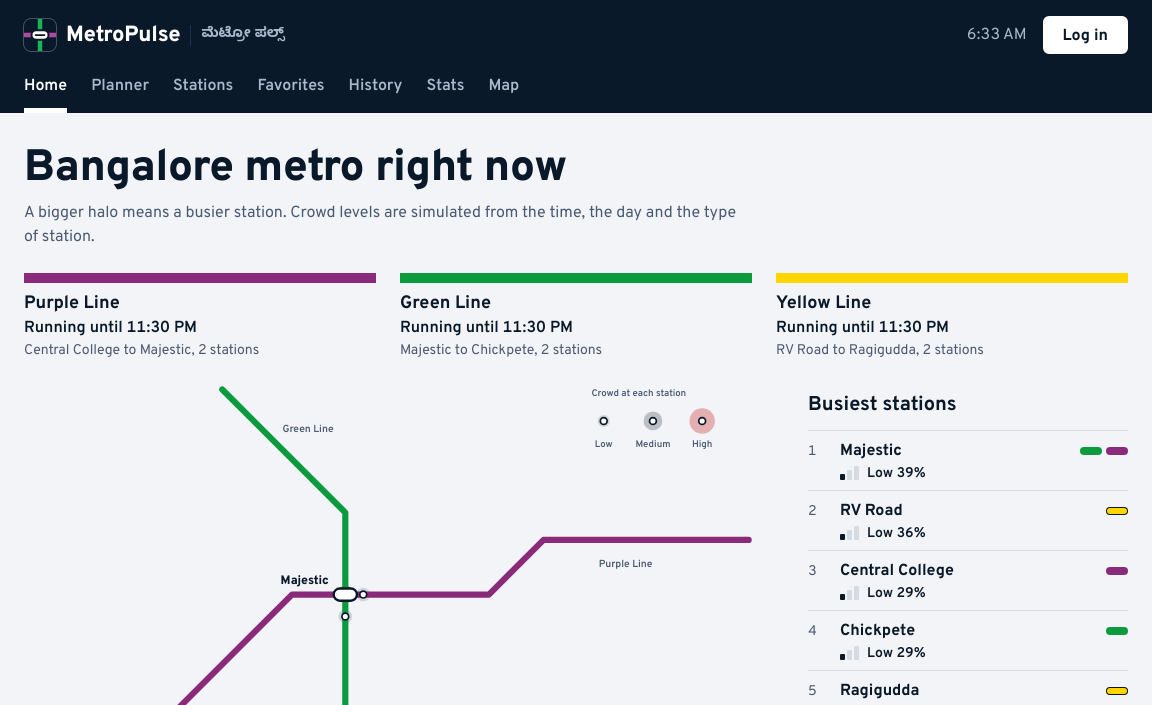
Scenario: the planner finds a route and shows the change
expect the heading "Bangalore metro right now" is shown: met, box 24,141 -> 567,197
Click the link "Planner" at (120, 86), box 91,76 -> 149,96
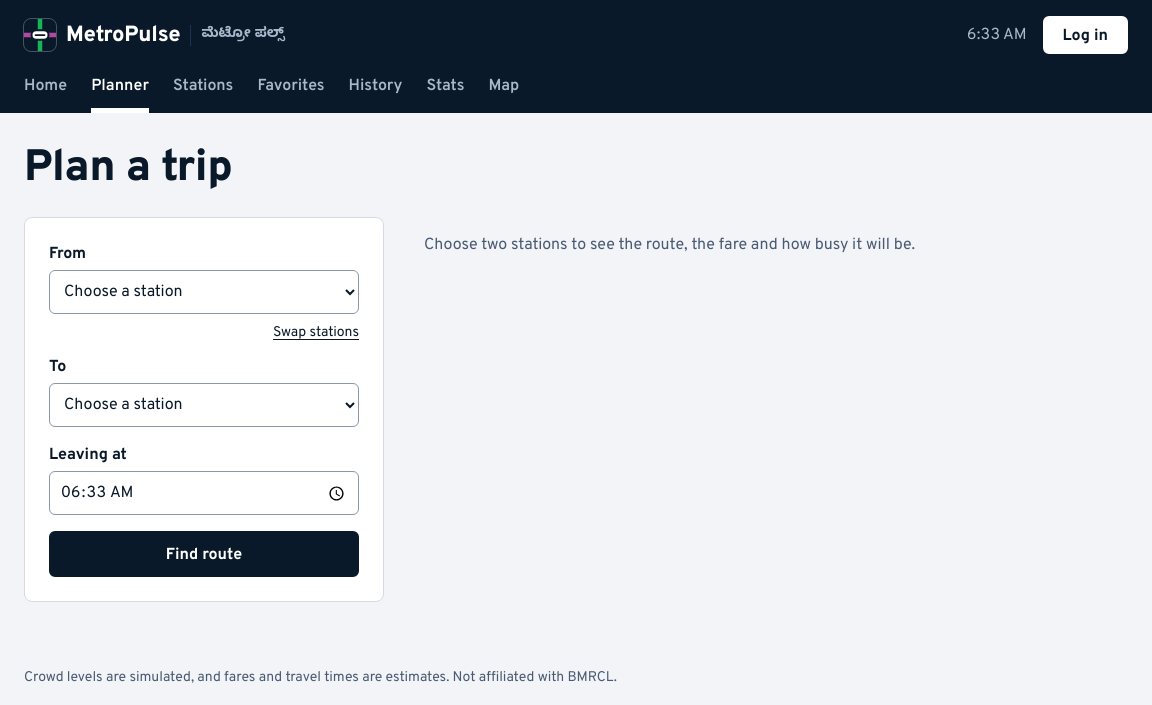
expect the heading "Plan a trip" is shown: met, box 24,141 -> 232,197
Select "Central College" in the dropdown labelled "From" at (204, 292), box 49,270 -> 359,314
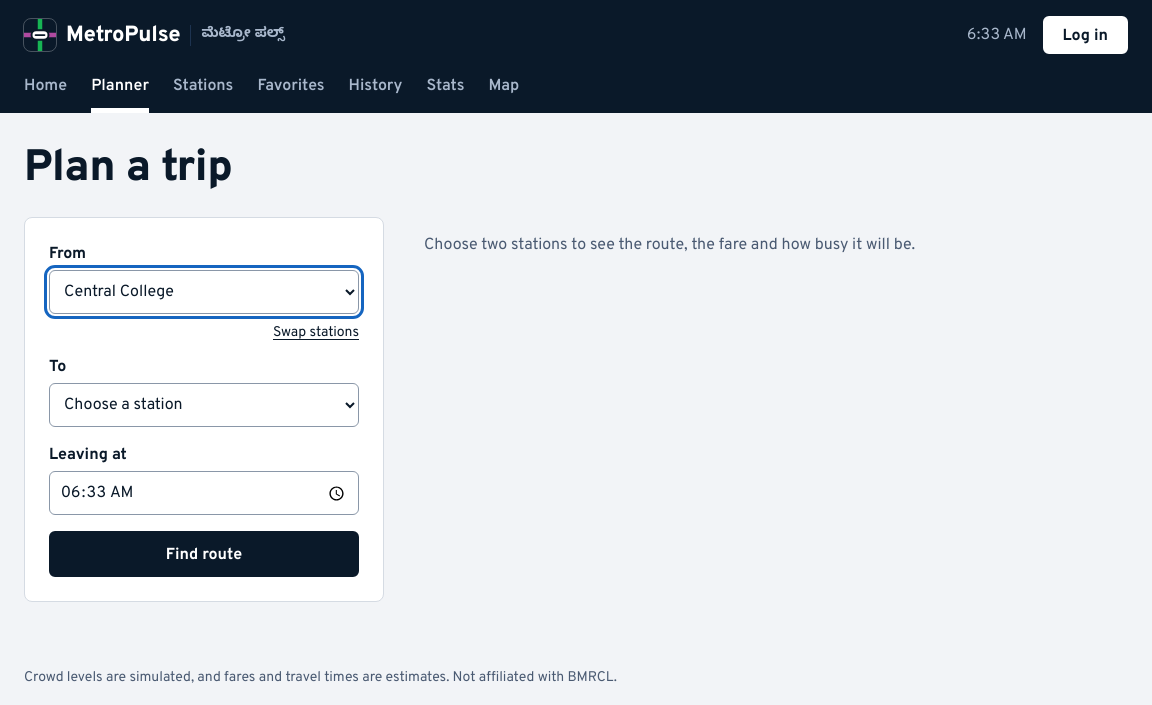
Select "Chickpete" in the dropdown labelled "To" at (204, 405), box 49,383 -> 359,427
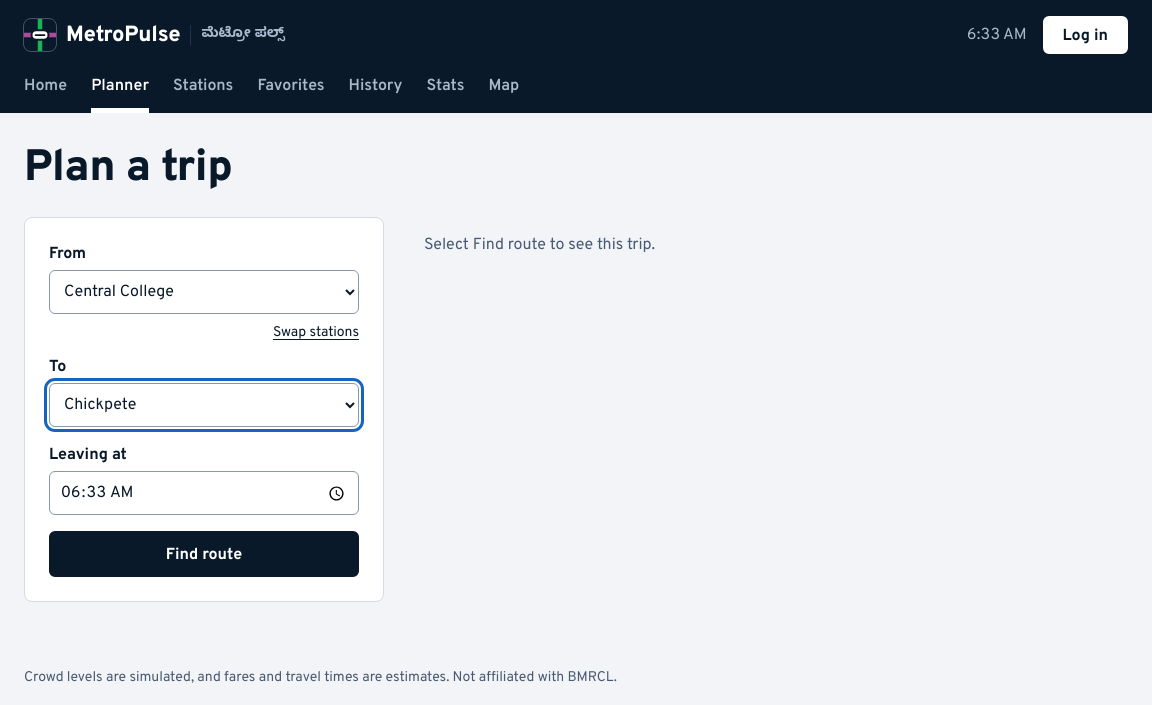
Click the button "Find route" at (204, 554), box 49,531 -> 359,577
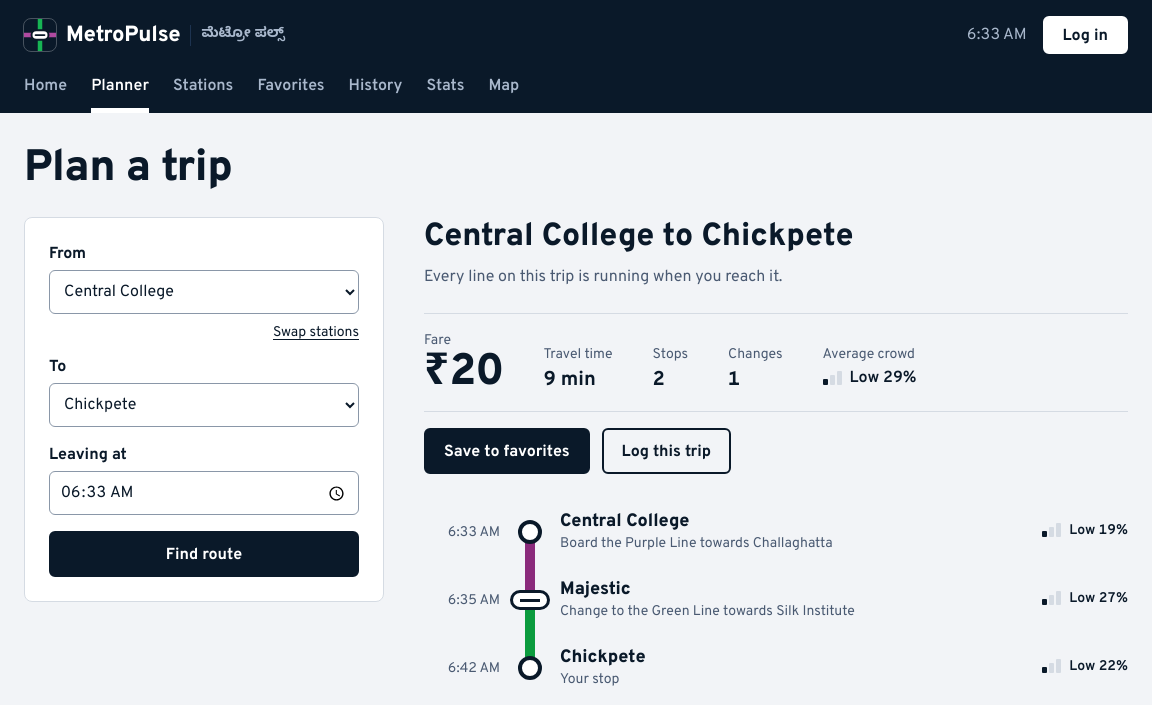
expect the heading "Central College to Chickpete" is shown: met, box 424,217 -> 854,257
expect the text "₹20" is shown: met, box 424,351 -> 503,395
expect the text "Change to the Green Line towards Silk Institute" is shown: met, box 560,603 -> 855,620
